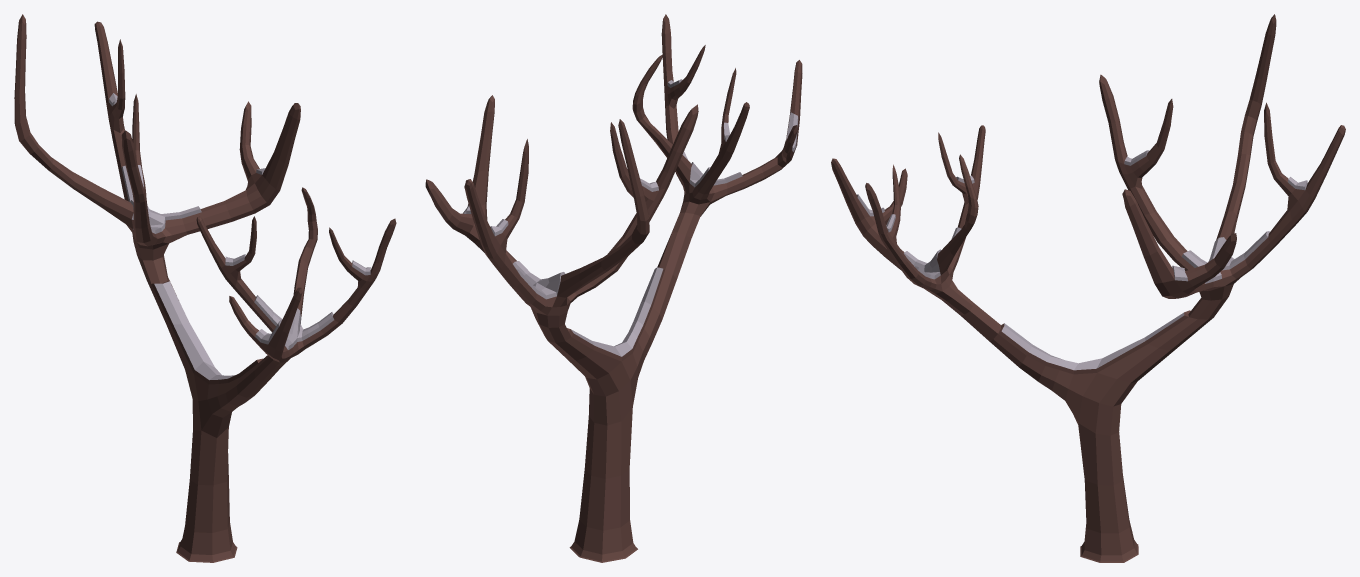
3 views of the same model, side by side, from view 1: azimuth 30°, elevation 25°; view 2: azimuth 150°, elevation 25°; view 3: azimuth 270°, elevation 25° (orthographic). The views are drawn at different scales.
Parts seen in each view (by area): view 1: CommonTree_Dead_Snow_1; view 2: CommonTree_Dead_Snow_1; view 3: CommonTree_Dead_Snow_1.
Part boxes in pixels (x1,y1,x2,y2): CommonTree_Dead_Snow_1: [14, 14, 396, 562]; CommonTree_Dead_Snow_1: [425, 14, 802, 562]; CommonTree_Dead_Snow_1: [831, 14, 1345, 562].
Bounding box in the file's own units: 1.04 × 2.22 × 2.12.
